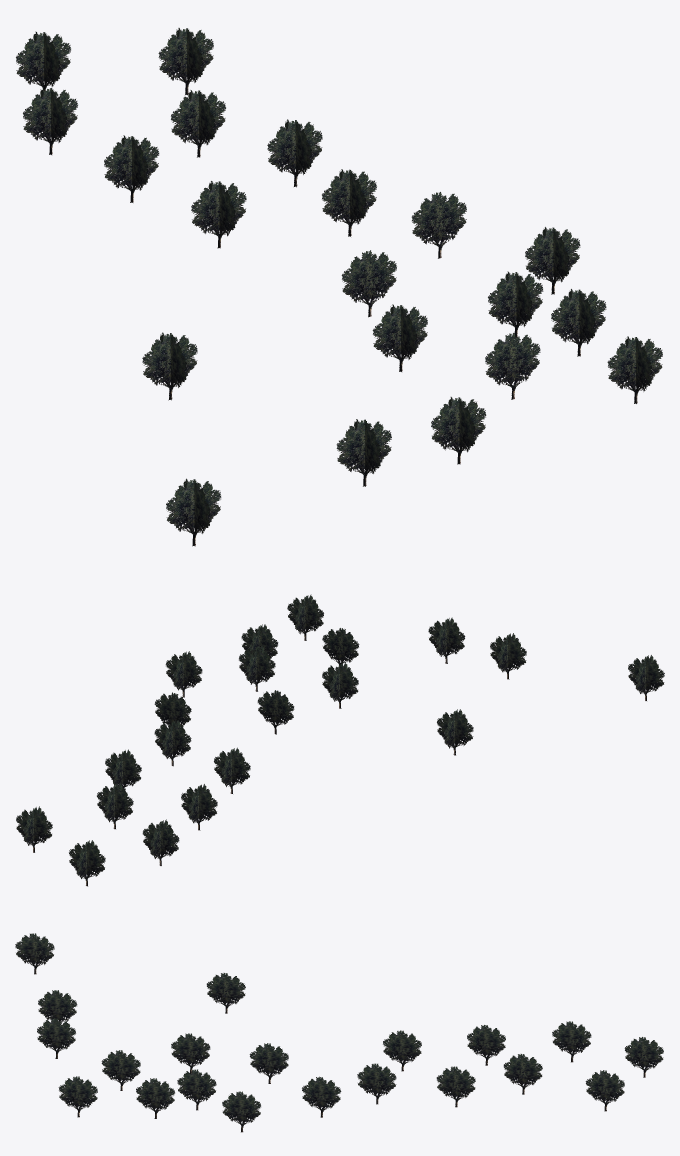
Rendered from planeTree26.FBX.
3 renders of one model, top to bottom at view 1: azimuth 30°, elevation 25°; view 2: azimuth 150°, elevation 25°; view 3: azimuth 270°, elevation 25°, orthographic. The views are drawn at different scales.
Parts seen in each view (by area): view 1: planeTree026; view 2: planeTree026; view 3: planeTree026.
Part boxes in pixels (<box>): planeTree026: <box>16,28,662,546</box>; planeTree026: <box>16,594,664,886</box>; planeTree026: <box>15,933,663,1132</box>.
Size of the model in its own units: 3989 by 441 by 6238.
